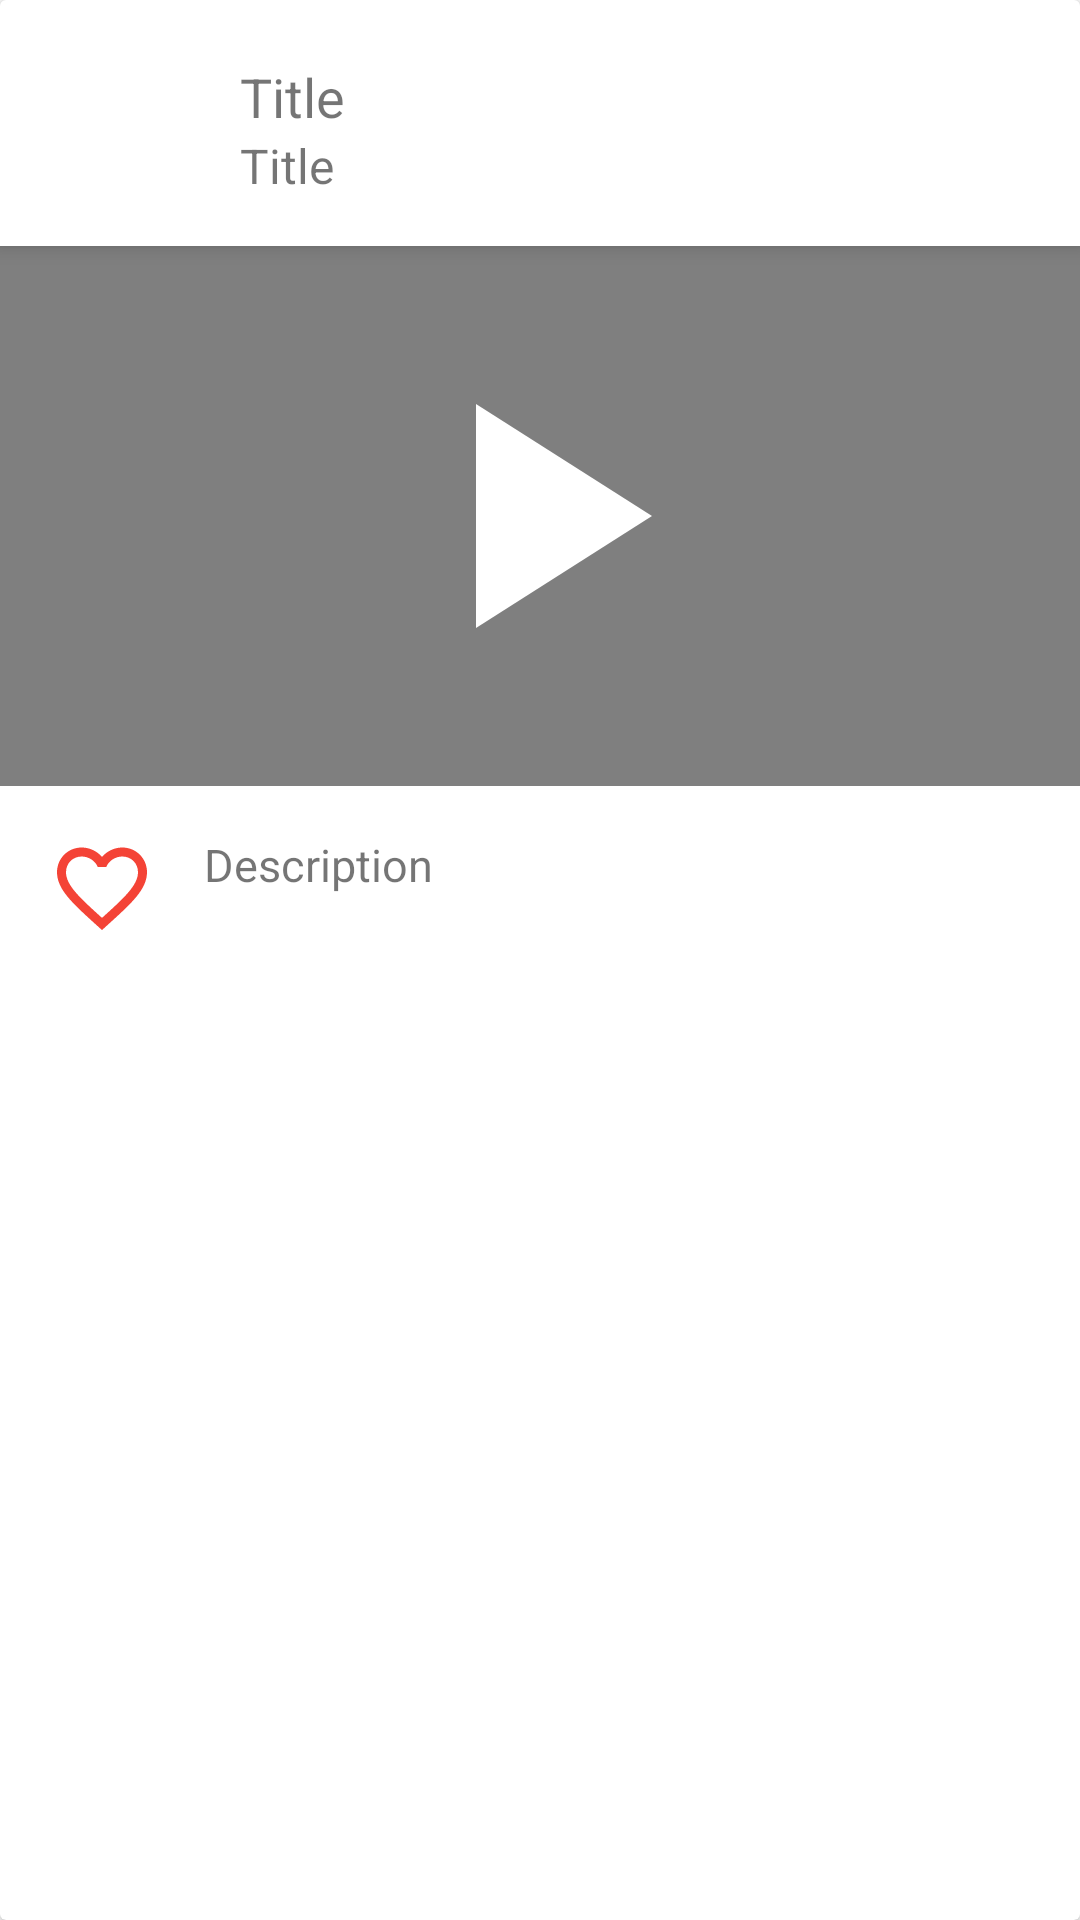

Where to tap for icons on this 1080w x 1920h app screen, as (x,y):
favorite: (102,888)
play arrow: (564,516)
